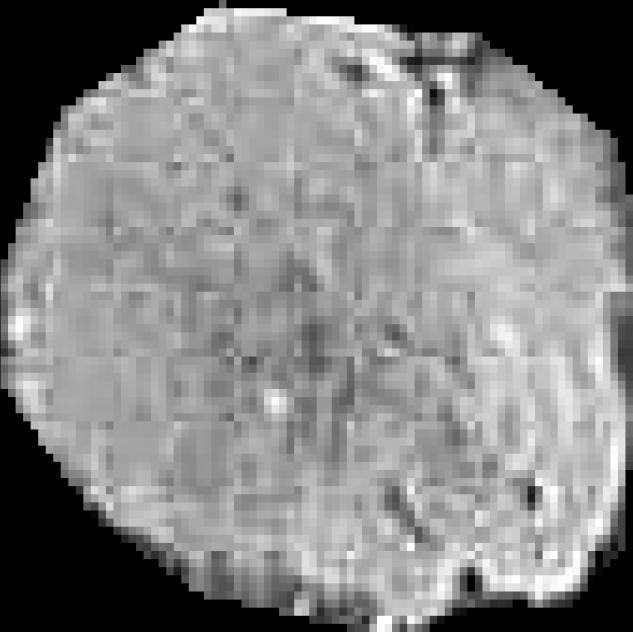tumor_moderate_chance: (1, 0, 633, 632)
